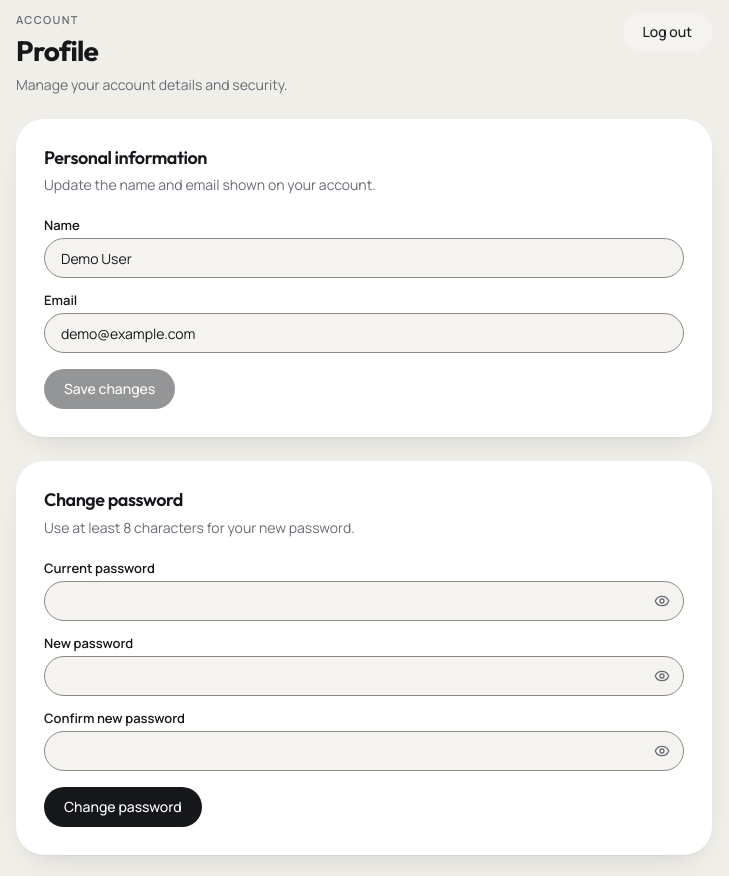
Test: ProfilePage › drops password confirmation before sending the change
This screenshot has width=729, height=876.
In the password field labelled "Current password": (364, 600) [44,580,684,620], type "password123"
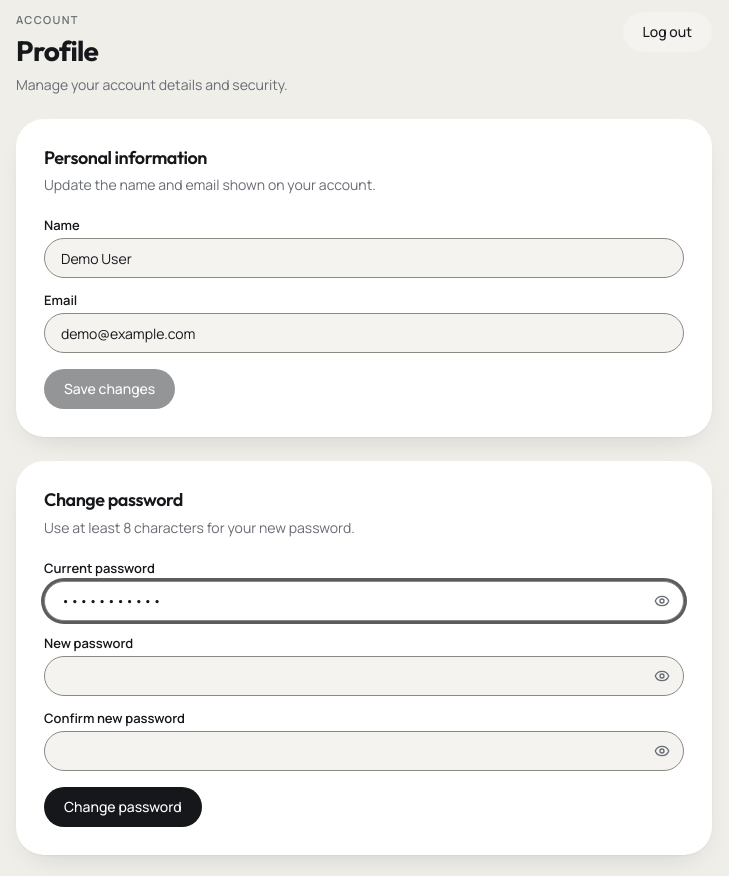
In the password field labelled "New password": (364, 676) [44,656,684,696], type "new-password"
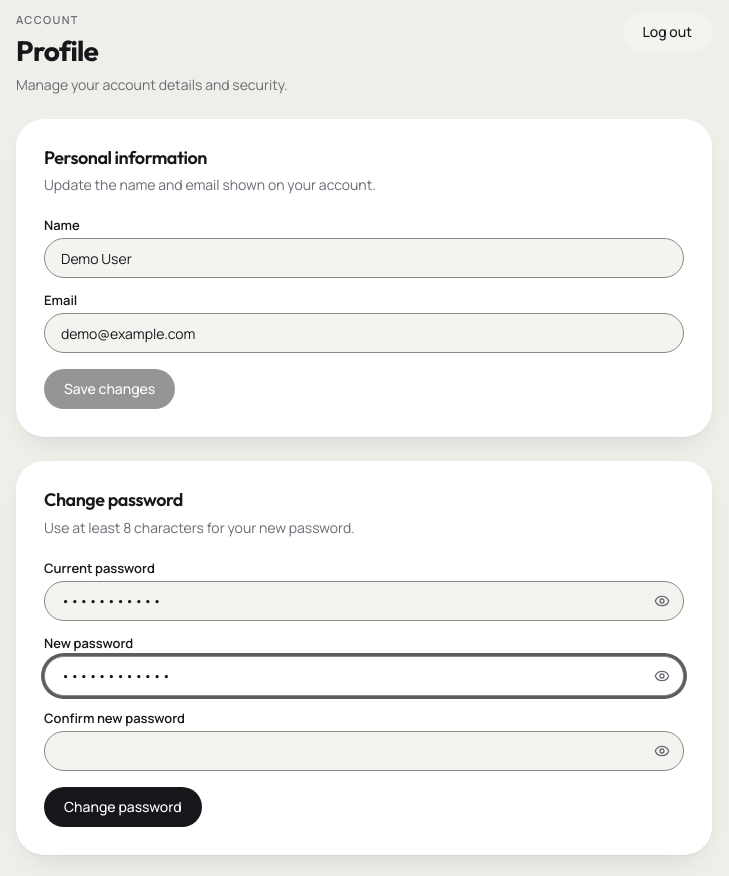
In the password field labelled "Confirm new password": (364, 750) [44,730,684,770], type "new-password"
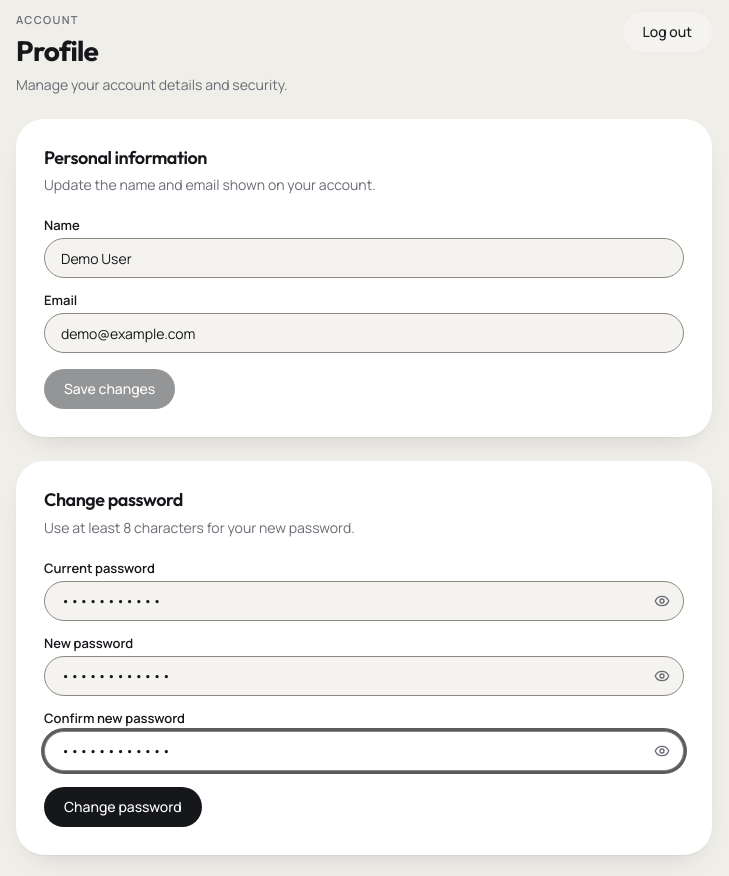
Click the button "Change password": (123, 806) [44,786,202,826]
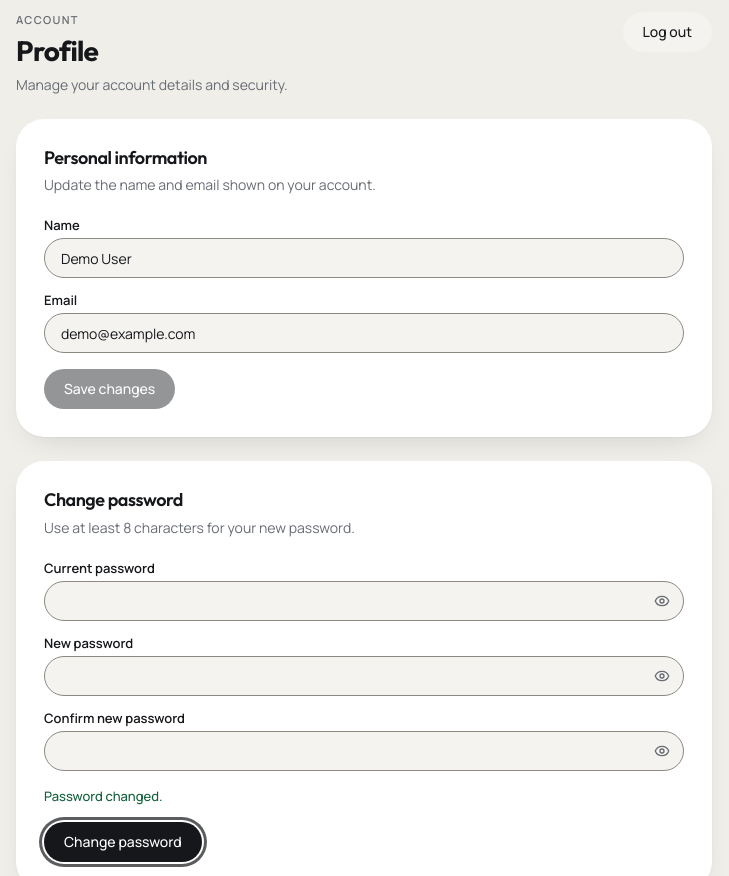
Expected: the message reads "Password changed.", [44,786,162,804]
